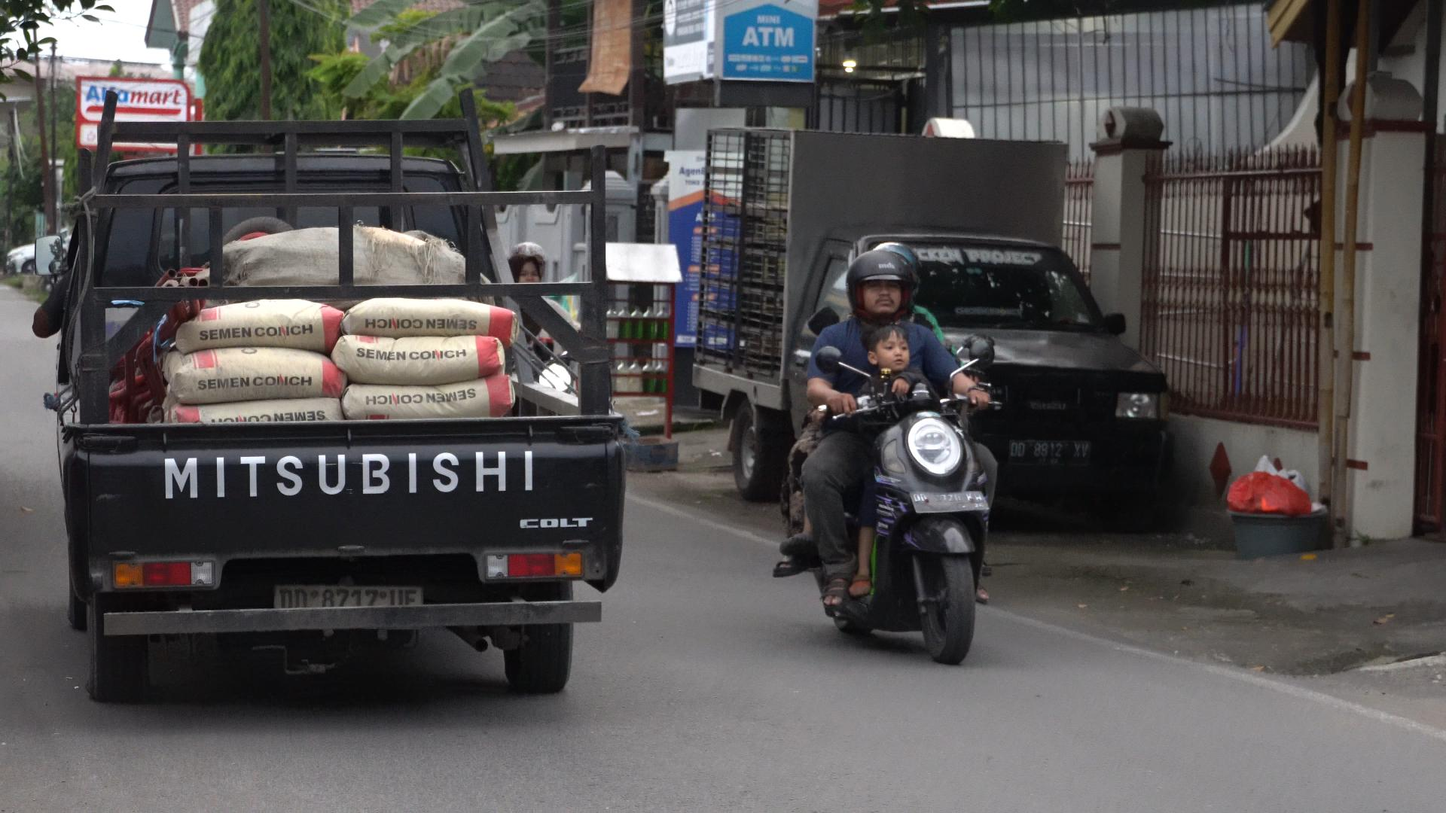number-plate: (907, 489, 993, 513)
